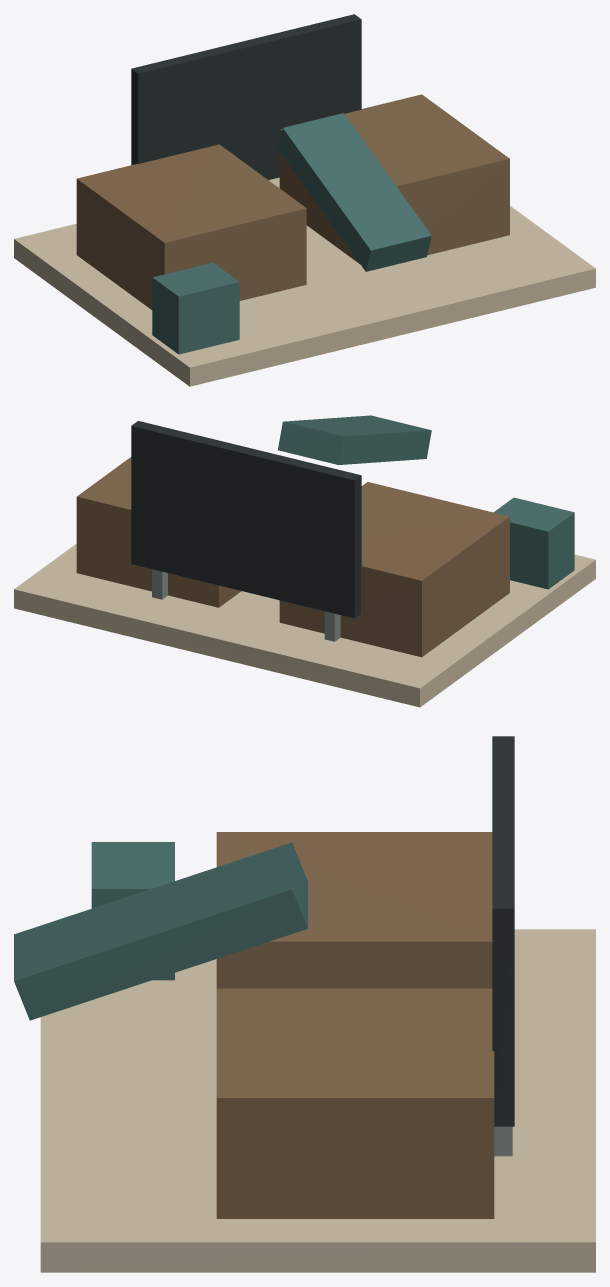
Rendered from Mulch-Station.glb.
3 views of the same model, one above another, from view 1: azimuth 30°, elevation 25°; view 2: azimuth 150°, elevation 25°; view 3: azimuth 270°, elevation 25° (orthographic). The views are drawn at different scales.
Visible parts, largest first — view 1: mulch-station-static-mulch-timber, mulch-station-static-mulch-cream, mulch-station-static-mulch-iron, mulch-station-static-mulch-teal; view 2: mulch-station-static-mulch-iron, mulch-station-static-mulch-timber, mulch-station-static-mulch-cream, mulch-station-static-mulch-teal, mulch-station-static-mulch-galv; view 3: mulch-station-static-mulch-timber, mulch-station-static-mulch-cream, mulch-station-static-mulch-teal, mulch-station-static-mulch-iron.
Boxes of the visible parts, <box> form: mulch-station-static-mulch-timber: <box>76,94,509,309</box>; mulch-station-static-mulch-cream: <box>14,177,595,386</box>; mulch-station-static-mulch-iron: <box>131,14,361,179</box>; mulch-station-static-mulch-teal: <box>152,113,431,354</box>; mulch-station-static-mulch-iron: <box>131,421,361,618</box>; mulch-station-static-mulch-timber: <box>76,457,509,657</box>; mulch-station-static-mulch-cream: <box>14,543,595,707</box>; mulch-station-static-mulch-teal: <box>278,415,574,589</box>; mulch-station-static-mulch-galv: <box>152,569,340,641</box>; mulch-station-static-mulch-timber: <box>216,832,494,1218</box>; mulch-station-static-mulch-cream: <box>40,929,595,1272</box>; mulch-station-static-mulch-teal: <box>14,842,307,1020</box>; mulch-station-static-mulch-iron: <box>492,736,514,1126</box>.
Size of the model in its own units: 4 by 1.75 by 3.14.
